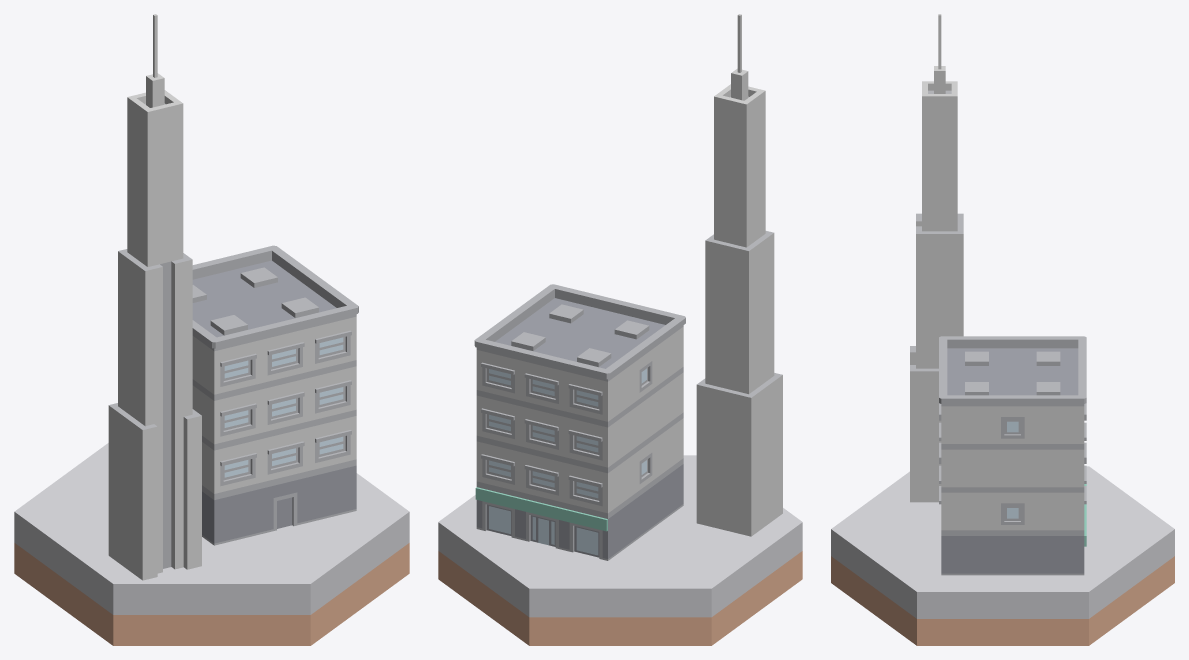
The model's file is 2_buildings_4_high.fbx.
The picture shows the model from 3 angles, left to right: view 1: azimuth 30°, elevation 25°; view 2: azimuth 150°, elevation 25°; view 3: azimuth 270°, elevation 25°; orthographic projection. The views are drawn at different scales.
Visible parts, largest first — view 1: large_buildingD, pavement_high.018, low_buildingA; view 2: large_buildingD, pavement_high.018, low_buildingA; view 3: large_buildingD, pavement_high.018, low_buildingA.
Boxes of the visible parts, x1,y1,x2,y2 form: large_buildingD: (192,245,358,545); pavement_high.018: (14,443,409,645); low_buildingA: (108,14,201,580); large_buildingD: (474,284,685,560); pavement_high.018: (438,455,802,645); low_buildingA: (696,14,782,536); large_buildingD: (939,336,1086,575); pavement_high.018: (831,466,1174,645); low_buildingA: (910,14,963,502).
Size of the model in its own units: 100 by 196 by 115.
